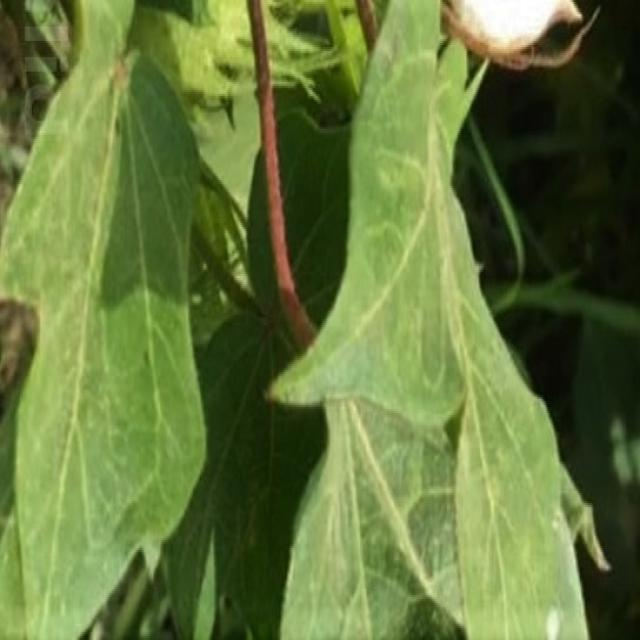Healthy Leaf: (28, 26, 628, 540)
